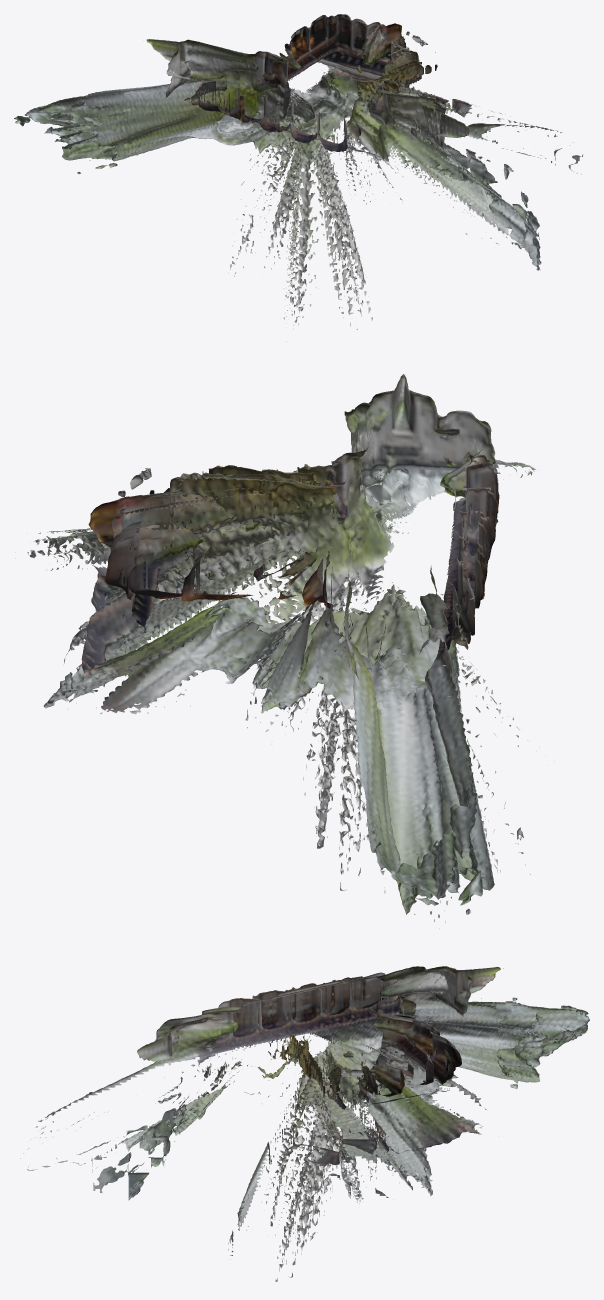
Rendered from 0-world.glb.
3 renders of one model, top to bottom at view 1: azimuth 30°, elevation 25°; view 2: azimuth 150°, elevation 25°; view 3: azimuth 270°, elevation 25°, orthographic. The views are drawn at different scales.
Visible parts, largest first — view 1: world; view 2: world; view 3: world.
Part boxes in pixels (x1,y1,x2,y2): world: (14,14,583,341); world: (15,374,554,928); world: (20,966,589,1281).
Size of the model in its own units: 33.48 by 19.2 by 37.99.
